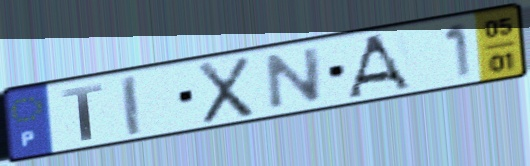1: (439, 20, 474, 81)
A: (344, 31, 416, 100)
I: (118, 72, 145, 139)
N: (264, 43, 325, 113)
T: (59, 82, 106, 143)
X: (195, 53, 257, 127)
